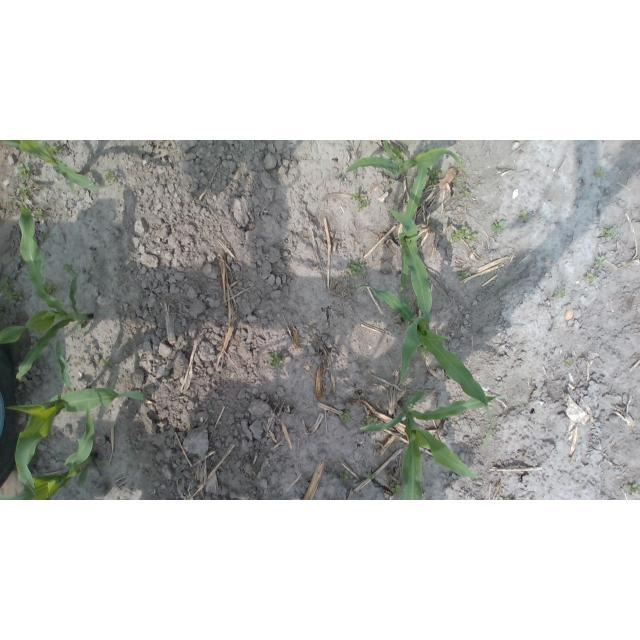Maize: (356, 284, 496, 448), (7, 339, 148, 497), (359, 388, 518, 500), (0, 198, 92, 381), (0, 408, 94, 500), (387, 160, 433, 325), (337, 141, 465, 190), (0, 140, 108, 195)
Weeds: (1, 279, 24, 305), (451, 226, 475, 243), (350, 191, 368, 212), (269, 352, 286, 369), (47, 141, 66, 156), (18, 162, 34, 179), (348, 260, 364, 277), (426, 169, 441, 187), (44, 281, 64, 294), (339, 410, 352, 424), (339, 470, 351, 484), (64, 265, 76, 278), (584, 273, 597, 285), (103, 172, 117, 183), (18, 185, 28, 200), (628, 483, 640, 495), (492, 220, 504, 232), (595, 256, 606, 269), (418, 345, 430, 356), (392, 145, 405, 155), (392, 484, 402, 497), (603, 227, 615, 237), (102, 358, 115, 367), (367, 417, 380, 425), (555, 288, 565, 298), (519, 212, 529, 222), (459, 271, 470, 280), (95, 459, 105, 467), (597, 167, 604, 178), (35, 210, 42, 220), (367, 473, 376, 480), (40, 233, 48, 240), (565, 360, 572, 367), (464, 189, 471, 196), (74, 361, 81, 367), (453, 176, 460, 182), (409, 402, 417, 407), (332, 324, 336, 328)
